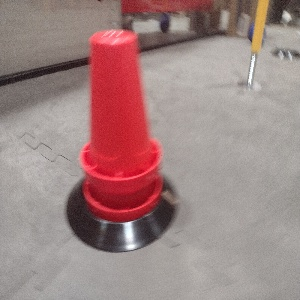Red_2: (77, 31, 166, 217)
